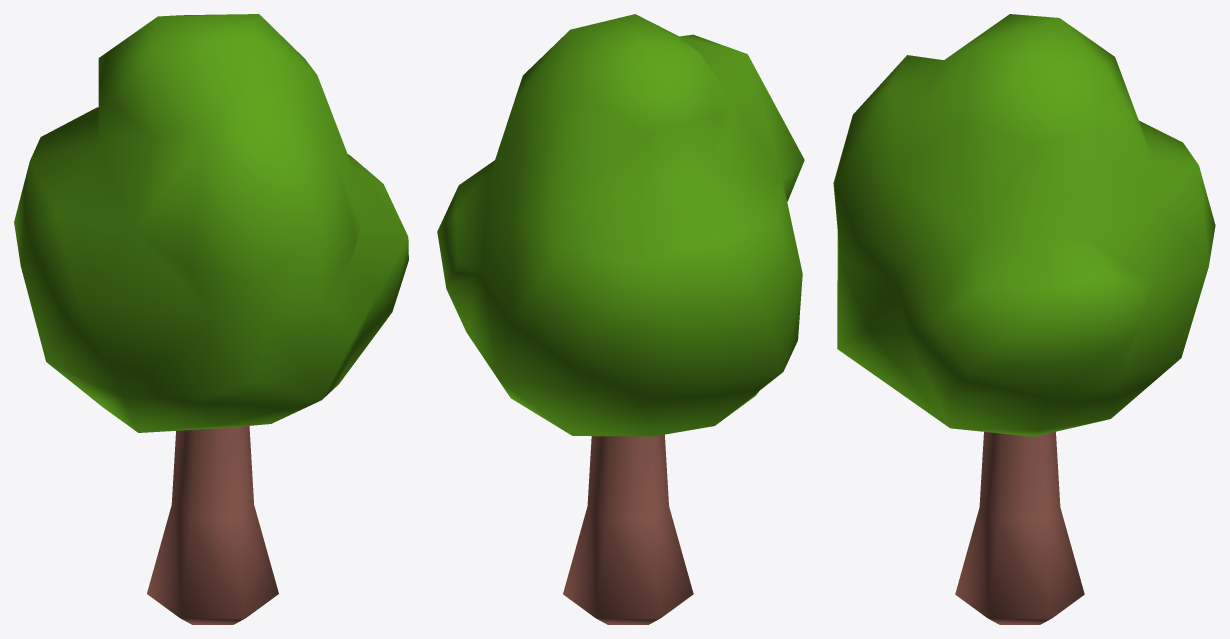
The model's file is TreeA_geo.fbx.
The picture shows the model from 3 angles, left to right: view 1: azimuth 30°, elevation 25°; view 2: azimuth 150°, elevation 25°; view 3: azimuth 270°, elevation 25°; orthographic projection. The views are drawn at different scales.
Parts seen in each view (by area): view 1: TreeA_geo; view 2: TreeA_geo; view 3: TreeA_geo.
Part boxes in pixels (bbox=[...]): TreeA_geo: bbox=[14, 14, 408, 624]; TreeA_geo: bbox=[437, 14, 804, 624]; TreeA_geo: bbox=[833, 14, 1215, 624].
Bounding box in the file's own units: 1.7 × 1.7 × 2.83.
